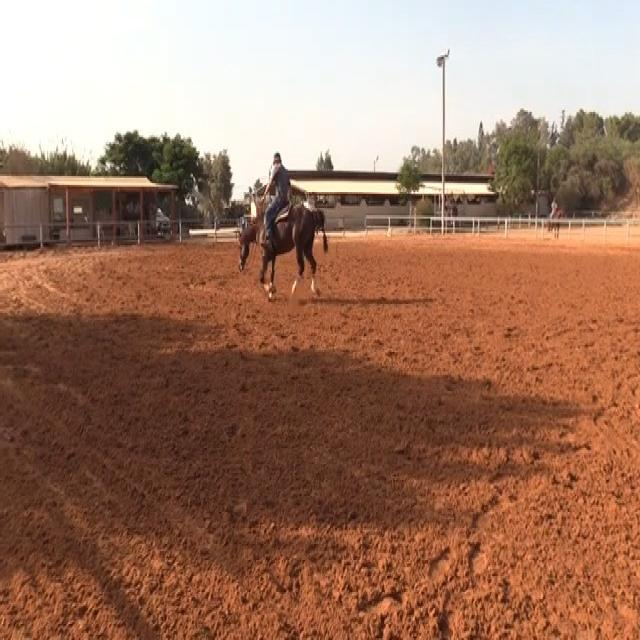horse: (235, 198, 329, 302)
